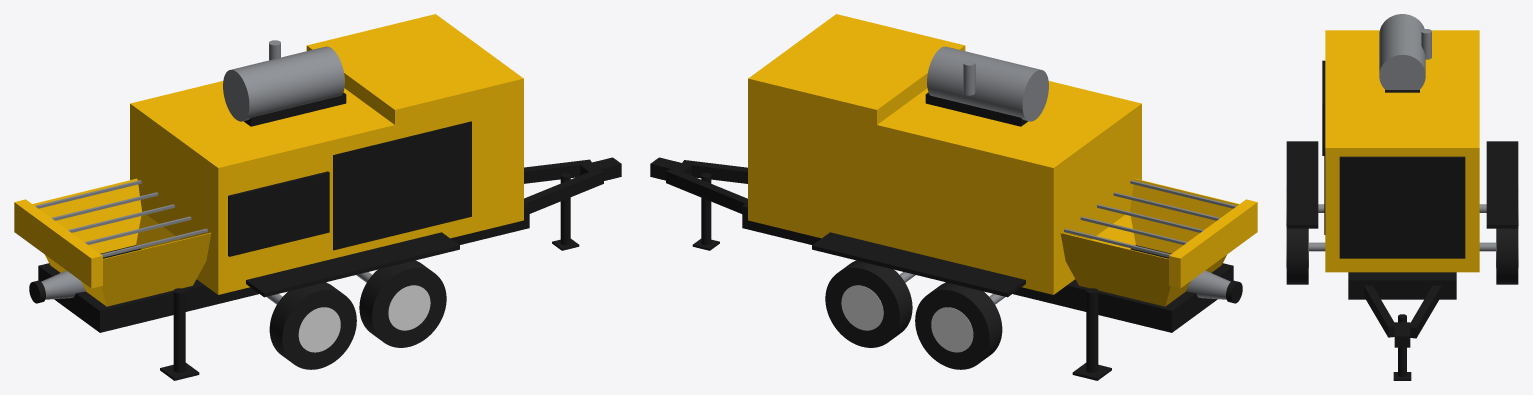
The model's file is Trailer_Concrete_Line_Pump.glb.
3 views of the same model, side by side, from view 1: azimuth 30°, elevation 25°; view 2: azimuth 150°, elevation 25°; view 3: azimuth 270°, elevation 25° (orthographic). The views are drawn at different scales.
Visible parts, largest first — view 1: enclosure_5efd56, open_engine_bay_db6193, enclosure_roof_step_e42b89, enclosure_bcd02f, enclosure_8ec80f, control_panel_5d0b13, dpf_canister_39be5b, hopper_f55426, hopper_b56b78, fender_-1_05bc93, frame_c95851, tire_1_-1_6bf19e (+20 smaller); view 2: enclosure_863bc0, enclosure_roof_step_e42b89, enclosure_bcd02f, enclosure_8ec80f, hopper_2750da, dpf_canister_39be5b, tire_1_1, hopper_d9a9ef, fender_1_53bf71, frame_dbc9ec, tire_0_1_d45a13, hopper_skirt_57af64 (+18 smaller); view 3: radiator_grille_e663e2, enclosure_roof_step_e42b89, enclosure_bcd02f, enclosure_904d17, fender_-1_05bc93, fender_1_53bf71, dpf_canister_39be5b, frame_e1b992, enclosure_roof_step_94bb71, dpf_canister_021a99, tire_1_-1_c0214d, tire_1_1 (+10 smaller).
Boxes of the visible parts, x1,y1,x2,y2 form: enclosure_5efd56: (218,93,523,294); open_engine_bay_db6193: (333,122,471,250); enclosure_roof_step_e42b89: (307,14,523,109); enclosure_bcd02f: (130,81,394,167); enclosure_8ec80f: (130,104,218,294); control_panel_5d0b13: (229,172,329,256); dpf_canister_39be5b: (231,46,344,120); hopper_f55426: (101,233,211,306); hopper_b56b78: (33,179,141,253); fender_-1_05bc93: (246,232,459,293); frame_c95851: (100,206,529,332); tire_1_-1_6bf19e: (372,268,446,347); enclosure_863bc0: (748,93,1053,294); enclosure_roof_step_e42b89: (748,14,964,109); enclosure_bcd02f: (877,81,1141,167); enclosure_8ec80f: (1053,104,1141,294); hopper_2750da: (1060,233,1170,306); dpf_canister_39be5b: (927,46,1040,120); tire_1_1: (825,260,912,347); hopper_d9a9ef: (1130,179,1238,253); fender_1_53bf71: (812,232,1025,293); frame_dbc9ec: (742,206,1171,332); tire_0_1_d45a13: (915,289,989,369); hopper_skirt_57af64: (1180,202,1257,287); radiator_grille_e663e2: (1339,158,1465,258); enclosure_roof_step_e42b89: (1325,92,1479,147); enclosure_bcd02f: (1325,30,1479,92); enclosure_904d17: (1325,161,1479,272); fender_-1_05bc93: (1286,141,1318,224); fender_1_53bf71: (1486,141,1518,224); dpf_canister_39be5b: (1379,14,1425,72); frame_e1b992: (1348,280,1456,299); enclosure_roof_step_94bb71: (1325,148,1479,160); dpf_canister_021a99: (1379,55,1425,89); tire_1_-1_c0214d: (1286,228,1308,284); tire_1_1: (1496,228,1518,284).
Bounding box in the file's own units: 6.1 × 2.6 × 2.41.
